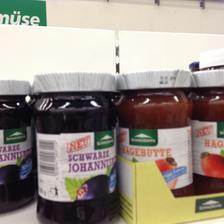Marmelade: (32, 71, 120, 223), (116, 69, 194, 197), (0, 78, 32, 213), (190, 68, 222, 194)
